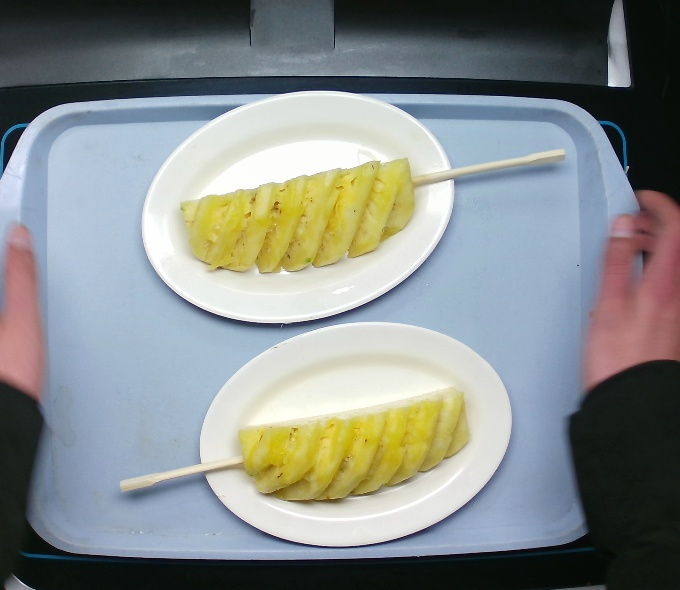wcq-BoLuo: (162, 151, 423, 280), (225, 385, 473, 507)
